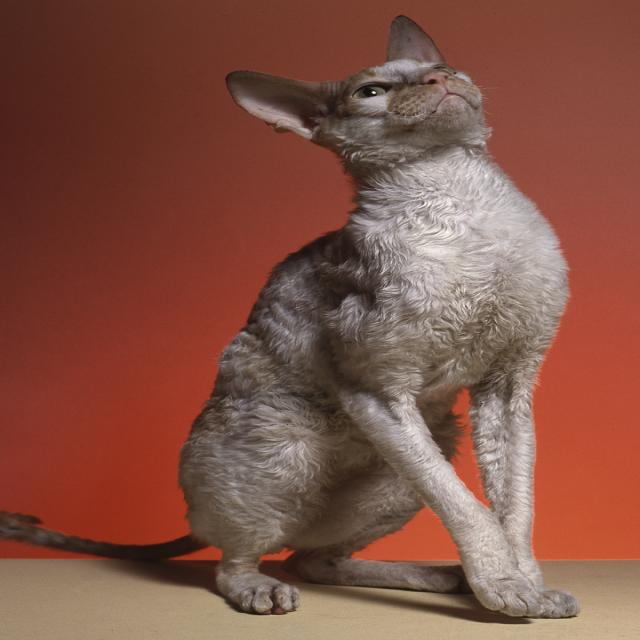Cornish Rex: (0, 9, 588, 624)
